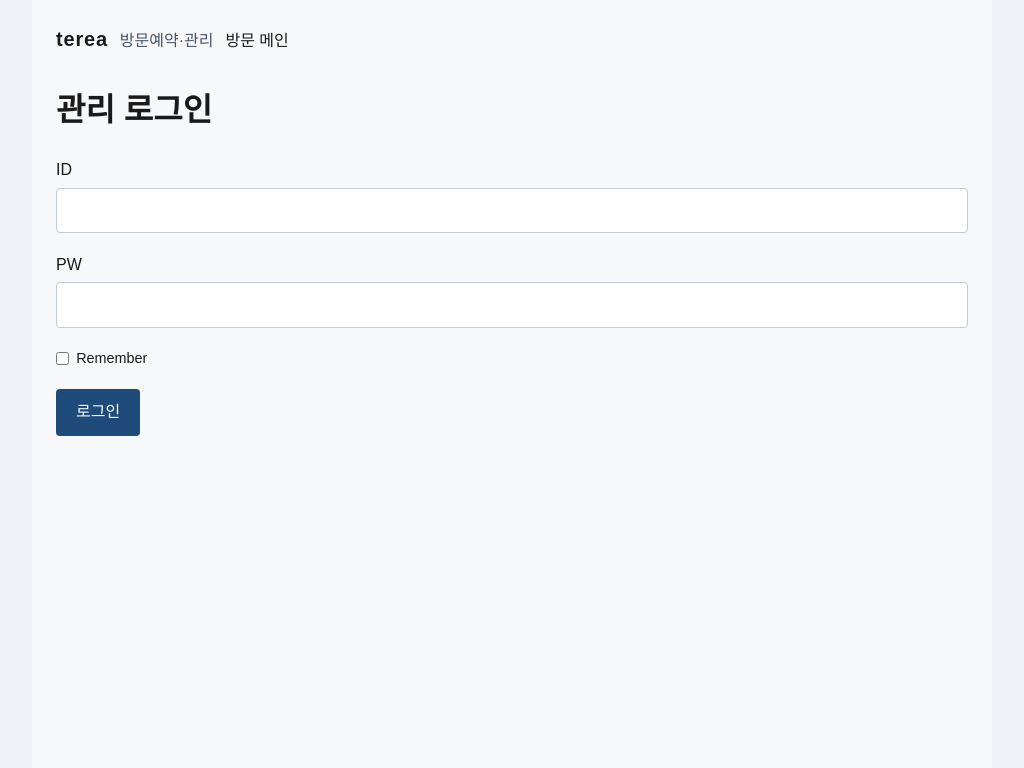
Test case: S45: 출입이력·그래프 › 검색·원본 컬럼·기간별/일별 그래프가 있다
Type "admin" into the field labelled "ID" at [512, 210], box [56,188,968,233]
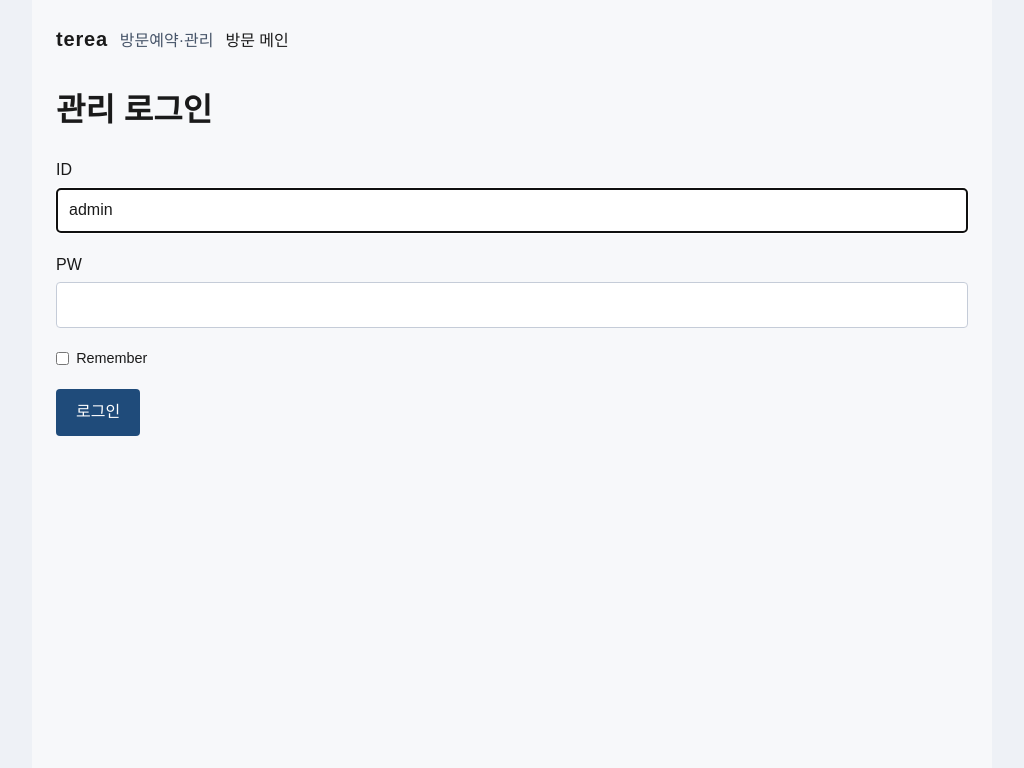
Type "1234" into the password field labelled "PW" at [512, 305], box [56,282,968,328]
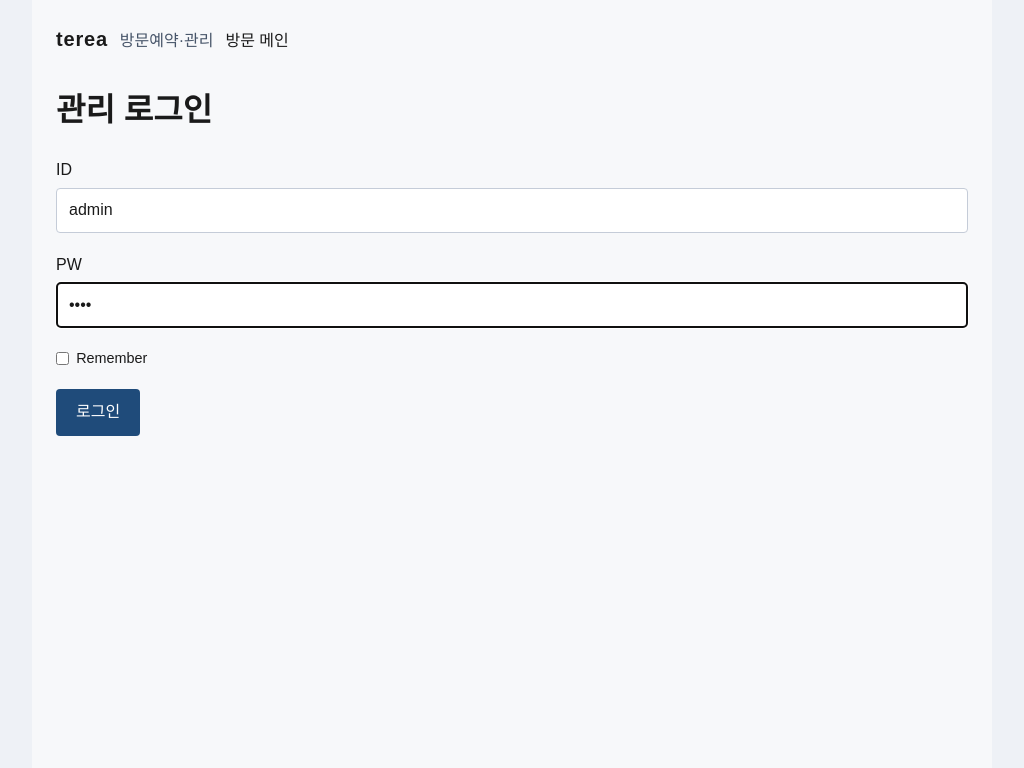
Click the button "로그인" at [98, 412], box [56,389,140,436]
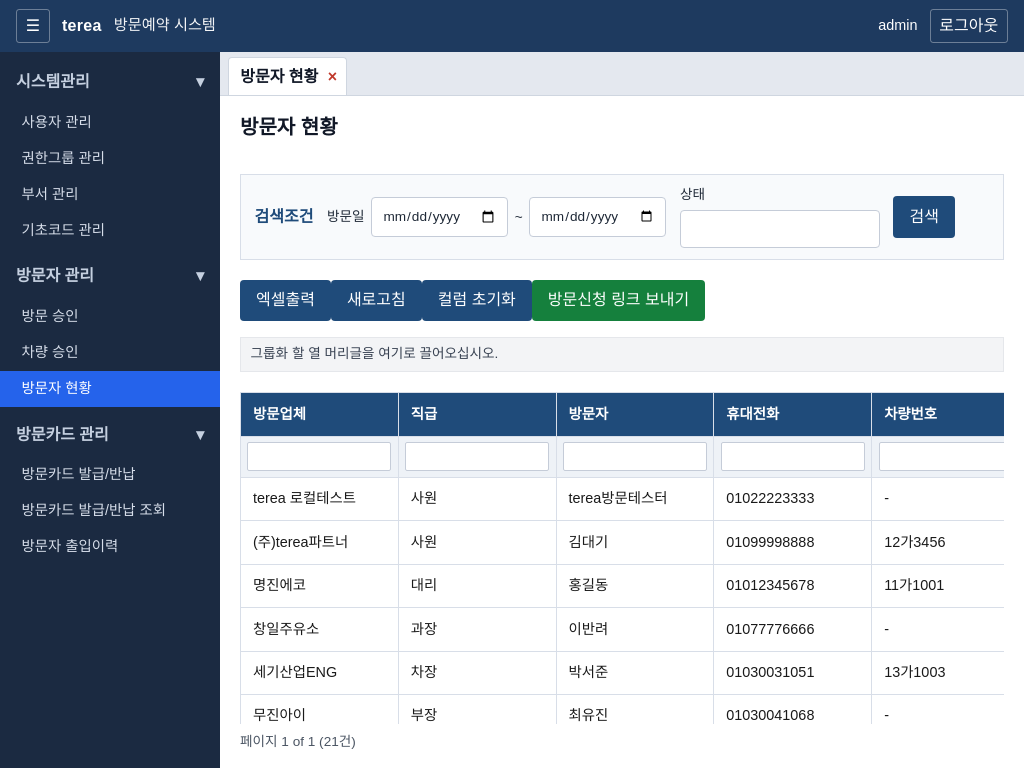
Click the link "방문자 출입이력" at [70, 546], box [22,538,118,554]
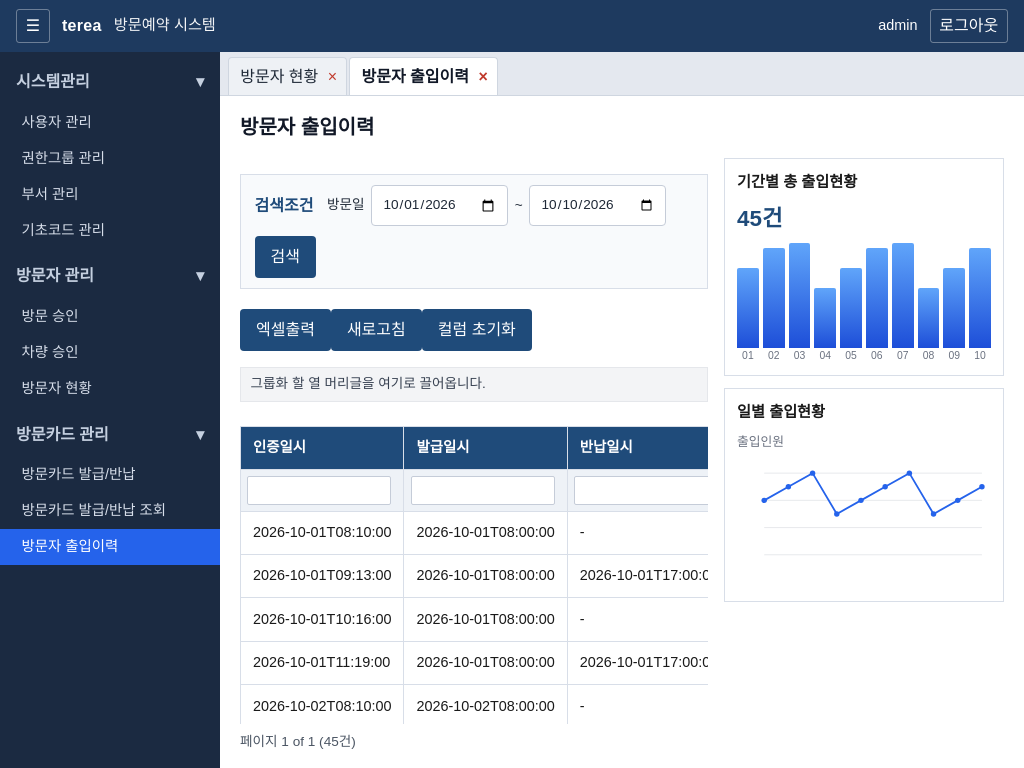
Expected: the form labelled "검색조건" is shown, [240,174,708,289]
Expected: the column heading "인증일시" is shown, [240,426,404,470]
Expected: the element "기간별 총 출입현황" is shown, [724,158,1004,376]
